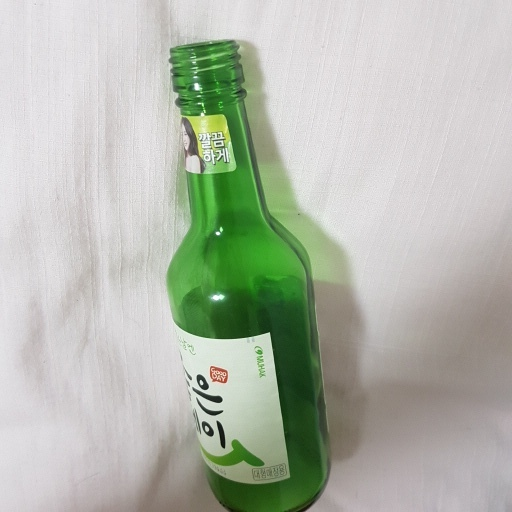Glass_0: (151, 40, 346, 512)
